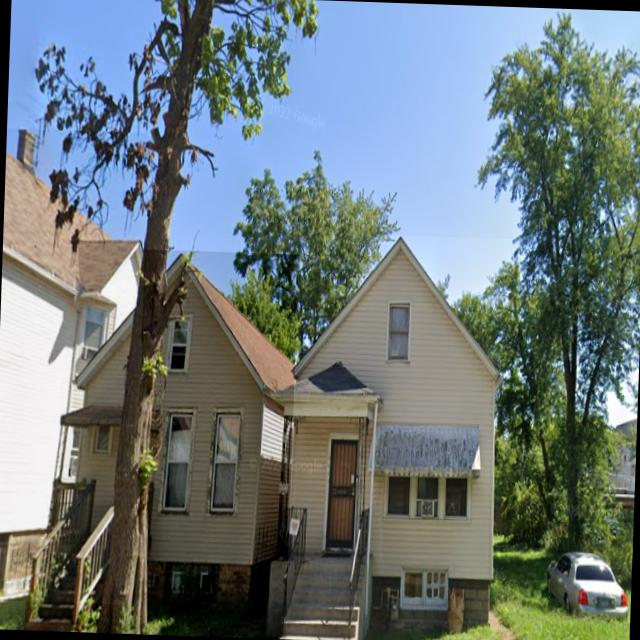House: (24, 245, 298, 639), (266, 230, 511, 640), (0, 128, 148, 605)
